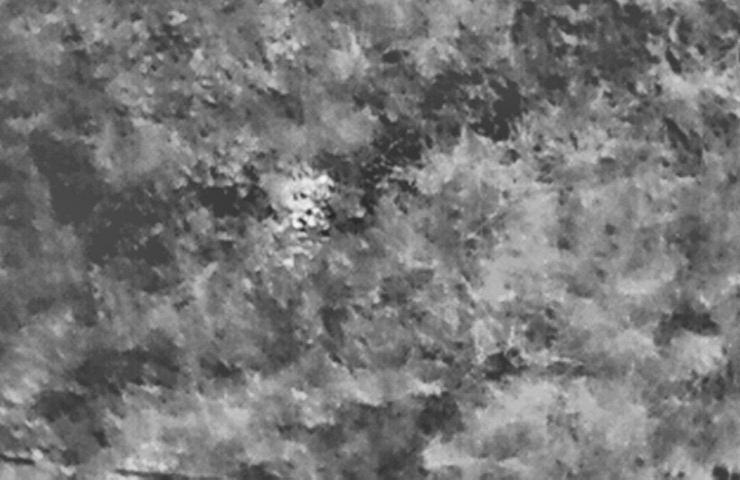landmines: (273, 172, 337, 225)
